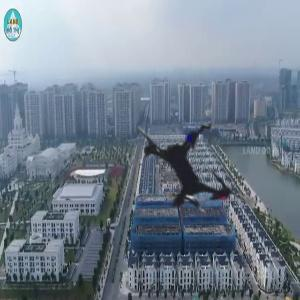drone: (89, 67, 297, 275)
